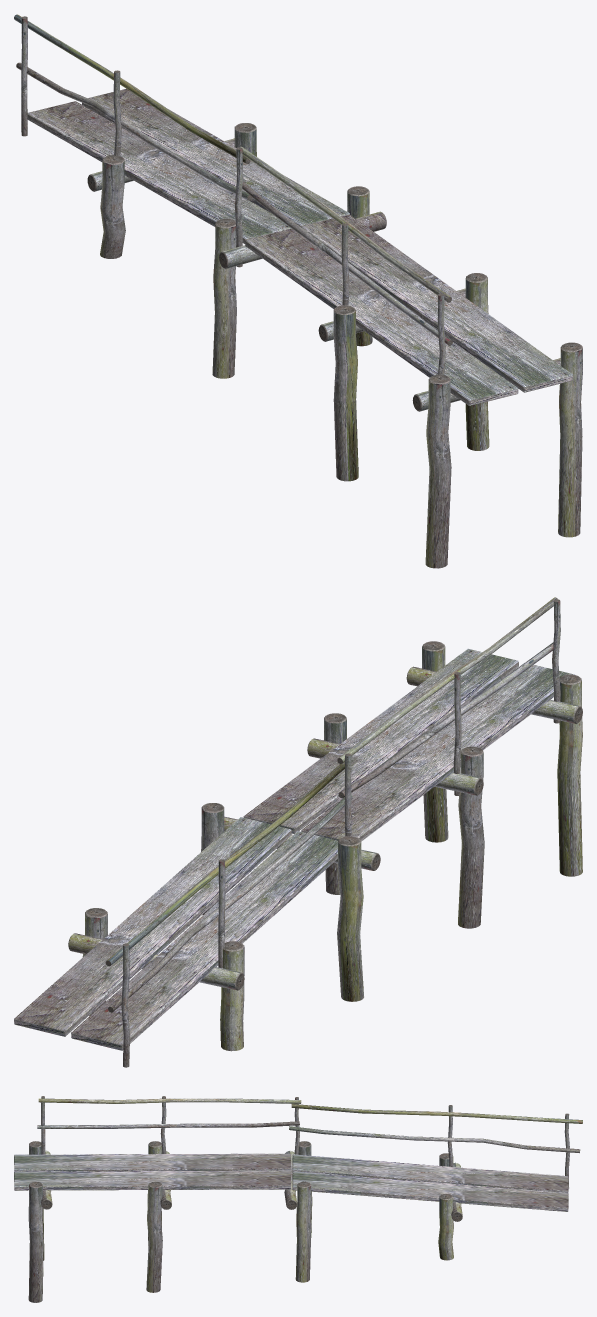
Rendered from wood_pier.FBX.
3 views of the same model, one above another, from view 1: azimuth 30°, elevation 25°; view 2: azimuth 150°, elevation 25°; view 3: azimuth 270°, elevation 25° (orthographic). The views are drawn at different scales.
Parts seen in each view (by area): view 1: wood_pier; view 2: wood_pier; view 3: wood_pier.
Part boxes in pixels (x1,y1,x2,y2): wood_pier: [14, 14, 582, 568]; wood_pier: [14, 597, 582, 1067]; wood_pier: [14, 1096, 582, 1302].
Bounding box in the file's own units: 1.28 × 6.16 × 1.98.
